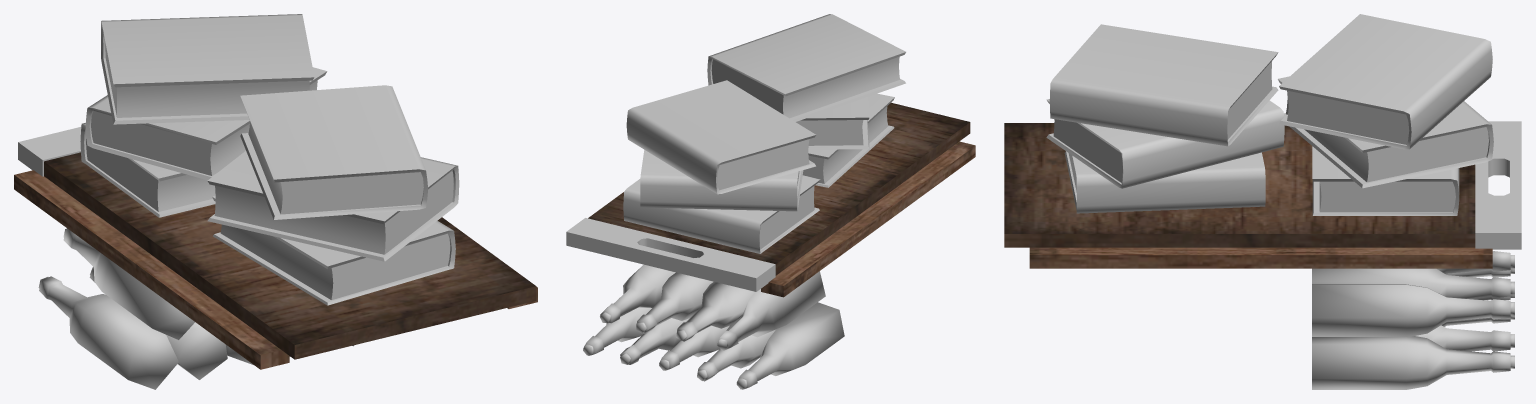
File: desk_content_pull.DAE
3 views of the same model, side by side, from view 1: azimuth 30°, elevation 25°; view 2: azimuth 150°, elevation 25°; view 3: azimuth 270°, elevation 25° (orthographic). The views are drawn at different scales.
Visible parts, largest first — view 1: polySurface002, polySurface1, Box003, wine_stack002, Object002, wine_stack001, Box001; view 2: polySurface1, polySurface002, Box003, wine_stack002, wine_stack, Box001, Object002, wine_stack001; view 3: polySurface002, polySurface1, Box003, wine_stack, Object002, Box001, wine_stack001.
Boxes of the visible parts, left/top/right/bottom form: polySurface002: left=207, top=85, right=459, bottom=305; polySurface1: left=80, top=14, right=327, bottom=217; Box003: left=44, top=152, right=536, bottom=359; wine_stack002: left=38, top=228, right=194, bottom=389; Object002: left=14, top=170, right=537, bottom=369; wine_stack001: left=89, top=267, right=253, bottom=379; Box001: left=18, top=127, right=81, bottom=176; polySurface1: left=623, top=80, right=820, bottom=253; polySurface002: left=707, top=14, right=905, bottom=187; Box003: left=588, top=102, right=970, bottom=275; wine_stack002: left=717, top=271, right=844, bottom=389; wine_stack: left=583, top=264, right=713, bottom=364; Box001: left=566, top=218, right=775, bottom=291; Object002: left=761, top=141, right=975, bottom=297; wine_stack001: left=659, top=282, right=775, bottom=381; polySurface002: left=1046, top=24, right=1284, bottom=213; polySurface1: left=1278, top=14, right=1493, bottom=215; Box003: left=1004, top=123, right=1475, bottom=247; wine_stack: left=1312, top=268, right=1514, bottom=389; Object002: left=1029, top=247, right=1492, bottom=268; Box001: left=1475, top=121, right=1521, bottom=249; wine_stack001: left=1437, top=251, right=1514, bottom=326.
Size of the model in its own units: 0.5477 by 0.5582 by 0.9429.
